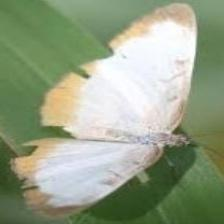butterfly: (12, 5, 198, 216)
